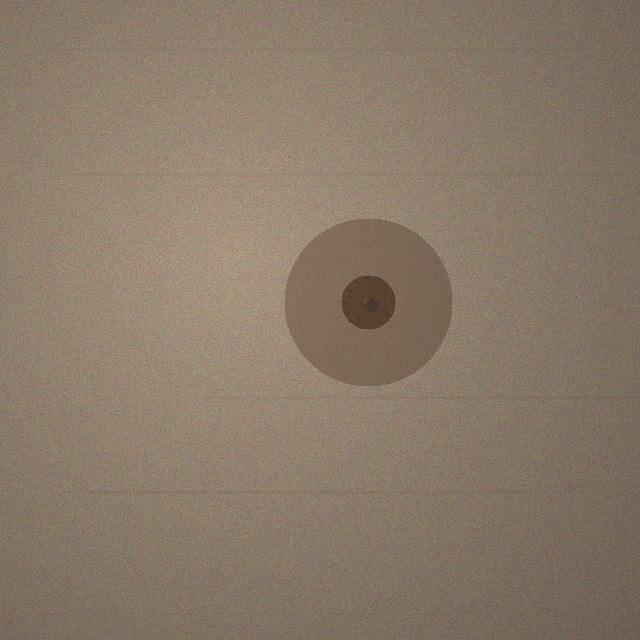cold_weld: (284, 218, 452, 386)
